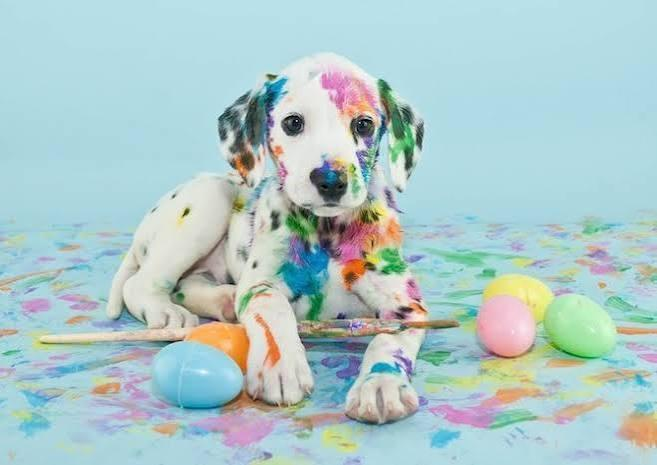puppy-dog: (104, 53, 432, 427)
